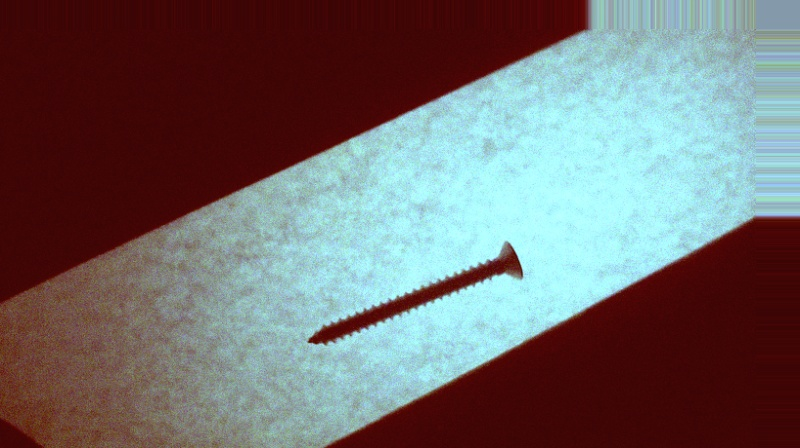S002: (302, 236, 529, 349)
